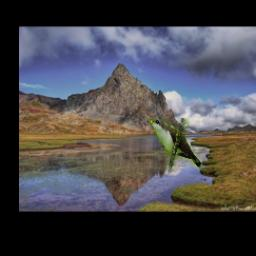Cuckoo: (147, 118, 209, 175)
